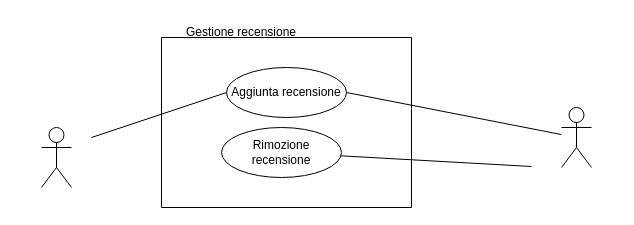
The diagram is 634 pixels wide and 225 high, and some of its shapes have lost their labels. Each missing label, with the box of its shape:
Amministratore: (560, 106, 592, 168)
Utente loggato: (40, 126, 72, 188)
